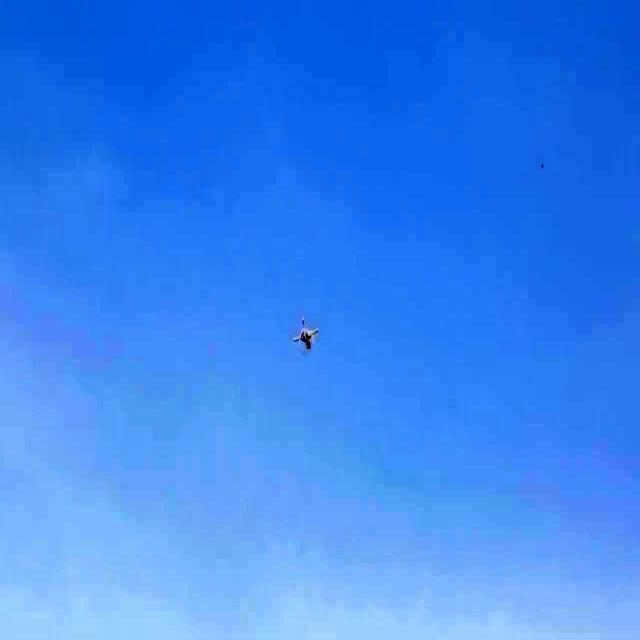drone: (292, 311, 318, 351)
